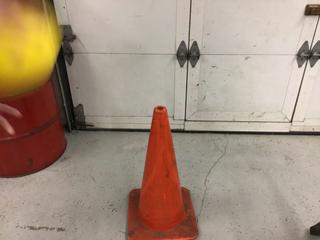power_cell: (1, 5, 65, 98)
